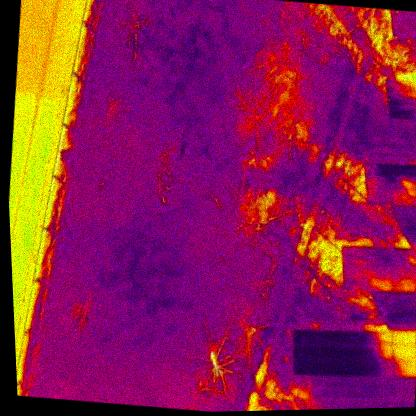Normal: (390, 329, 416, 348), (392, 345, 416, 362)
Shadow: (364, 359, 393, 380), (315, 358, 345, 378), (365, 260, 394, 280), (365, 344, 394, 364), (341, 258, 369, 278), (339, 328, 367, 348), (314, 327, 342, 347), (291, 327, 319, 347), (340, 344, 368, 364), (388, 176, 416, 195), (364, 245, 392, 264), (341, 273, 369, 292), (315, 345, 343, 364), (364, 330, 393, 348), (390, 261, 416, 281), (389, 246, 416, 265), (363, 173, 391, 191), (390, 190, 416, 209), (386, 91, 413, 109), (342, 359, 369, 377), (384, 78, 411, 95), (391, 276, 416, 294), (292, 345, 317, 363), (388, 162, 414, 179), (341, 245, 367, 262), (367, 275, 393, 292), (390, 9, 416, 26), (391, 21, 416, 38), (366, 189, 391, 206), (391, 359, 416, 376), (293, 360, 318, 377), (389, 105, 413, 121), (364, 161, 390, 175)
